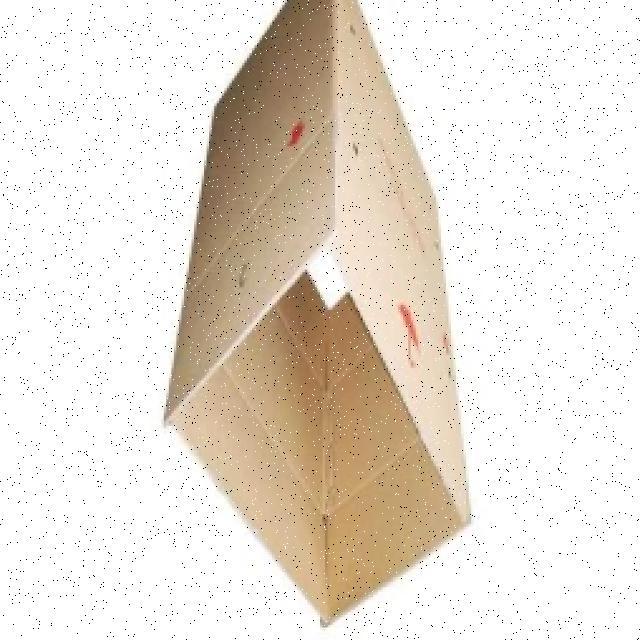box: (124, 0, 486, 625)
